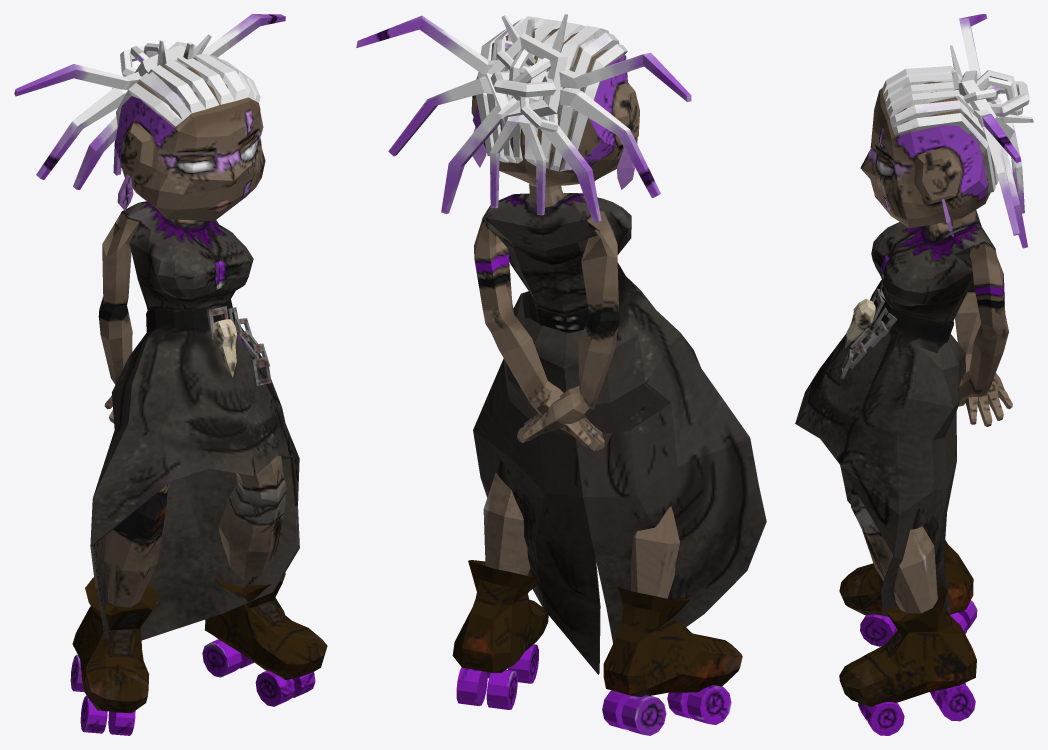
Rendered from bruja_000011.obj.
The picture shows the model from 3 angles, left to right: view 1: azimuth 30°, elevation 25°; view 2: azimuth 150°, elevation 25°; view 3: azimuth 270°, elevation 25°; orthographic projection. The views are drawn at different scales.
Parts seen in each view (by area): view 1: Bruja_Plane.001; view 2: Bruja_Plane.001; view 3: Bruja_Plane.001.
Boxes of the visible parts, x1,y1,x2,y2 form: Bruja_Plane.001: (14, 14, 327, 735); Bruja_Plane.001: (356, 14, 766, 735); Bruja_Plane.001: (795, 14, 1033, 735).
Bounding box in the file's own units: 7.43 × 16.16 × 5.46.
